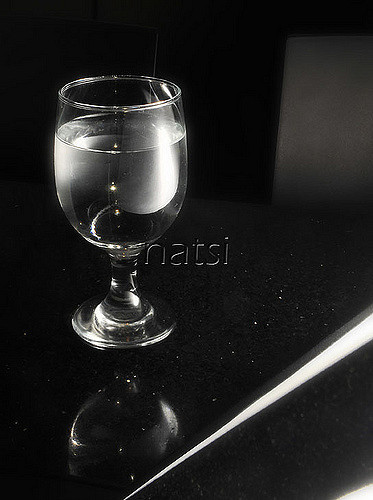glass of water: (53, 77, 196, 359)
